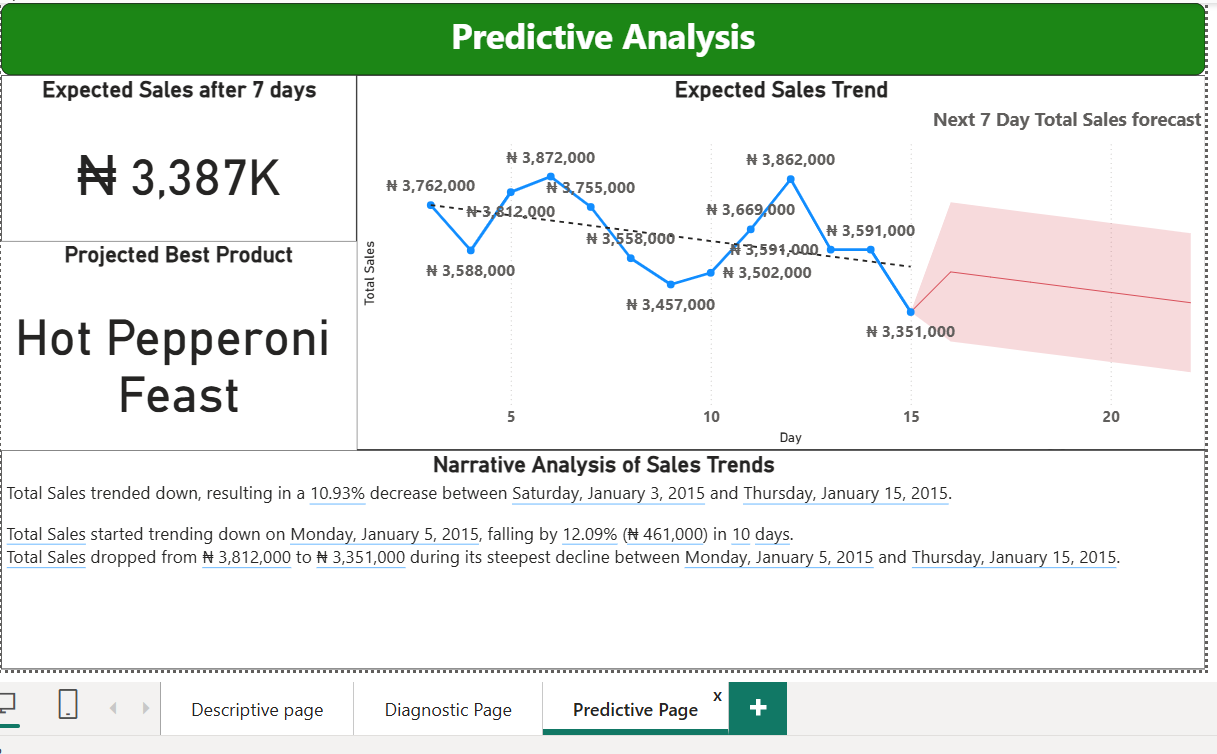

The dashboard page shown, as its layout file describes it:
{"tool":"powerbi","page":{"name":"Predictive Page","canvas":[1300,720],"ordinal":2},"visuals":[{"type":"clusteredBarChart","fields":{"Category":["Branch Data.Region","Sales Target.Pizza"]},"box":[999.1,406.4,280.1,263.9],"z":0},{"type":"lineChart","title":"Expected Sales Trend","fields":{"Category":["Daily Target.Day.Variation.Date Hierarchy.Day"],"Y":["Sales Data.Total Sales"]},"box":[383.8,77.7,916.5,404.8],"z":1000},{"type":"textbox","title":"Narrative Analysis of Sales Trends","box":[0,482.5,1300.2,236.4],"z":2000},{"type":"textbox","box":[0,0,1300.2,77.7],"z":3000},{"type":"card","title":"Expected Sales after 7 days","fields":{"Values":["Daily Target.Forecast_Value"]},"box":[0,77.7,383.8,179.7],"z":4000},{"type":"card","title":"Projected Best Product ","fields":{"Values":["Sales Target.Projected Best Pizza"]},"box":[0,257.5,383.8,225.1],"z":5000}]}

Visuals, with their boxes on the page's 1300x720 design canvas (x1, y1, x2, y2). These are canvas units, not pixel positions in the 1217x754 screenshot, which may show the page scaled, cropped or inside an application window:
clusteredBarChart - Branch Data.Region x Sales Target.Pizza: {"x1": 999, "y1": 406, "x2": 1279, "y2": 670}
"Expected Sales Trend" lineChart: {"x1": 384, "y1": 78, "x2": 1300, "y2": 482}
"Narrative Analysis of Sales Trends" textbox: {"x1": 0, "y1": 482, "x2": 1300, "y2": 719}
textbox: {"x1": 0, "y1": 0, "x2": 1300, "y2": 78}
"Expected Sales after 7 days" card: {"x1": 0, "y1": 78, "x2": 384, "y2": 257}
"Projected Best Product " card: {"x1": 0, "y1": 258, "x2": 384, "y2": 483}
